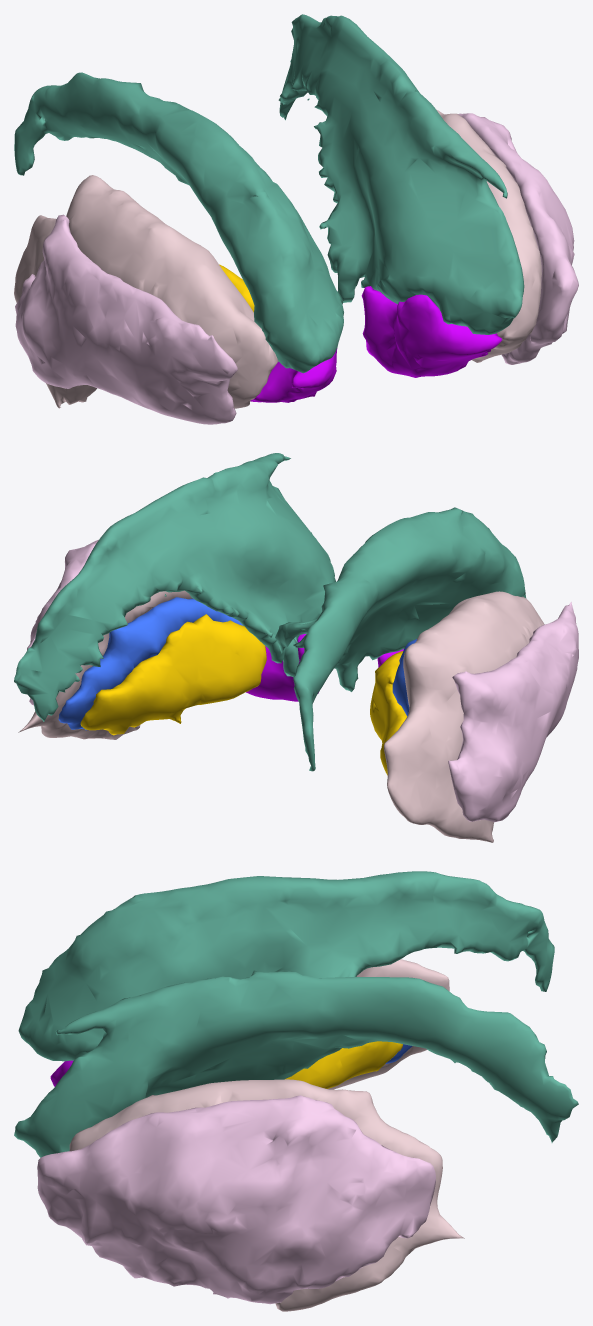
Rendered from basal-ganglia.lod0.glb.
3 renders of one model, top to bottom at view 1: azimuth 30°, elevation 25°; view 2: azimuth 150°, elevation 25°; view 3: azimuth 270°, elevation 25°, orthographic. The views are drawn at different scales.
Parts seen in each view (by area): view 1: caudate-nucleus-l, caudate-nucleus-r, claustrum-r, putamen-r, claustrum-l, nucleus-accumbens-l, putamen-l, nucleus-accumbens-r; view 2: caudate-nucleus-l, caudate-nucleus-r, putamen-r, claustrum-r, globus-pallidus-pars-interna-l, globus-pallidus-pars-externa-l, putamen-l, globus-pallidus-pars-interna-r, nucleus-accumbens-l, claustrum-l, globus-pallidus-pars-externa-r; view 3: claustrum-l, caudate-nucleus-r, caudate-nucleus-l, putamen-l, globus-pallidus-pars-interna-r, putamen-r.
Boxes of the visible parts, x1,y1,x2,y2 form: caudate-nucleus-l: (278,14,524,334); caudate-nucleus-r: (14,72,343,373); claustrum-r: (15,214,237,424); putamen-r: (14,175,278,408); claustrum-l: (458,113,578,364); nucleus-accumbens-l: (361,286,501,377); putamen-l: (436,109,541,362); nucleus-accumbens-r: (250,348,337,402); caudate-nucleus-l: (14,453,335,721); caudate-nucleus-r: (275,507,526,771); putamen-r: (384,591,544,842); claustrum-r: (448,602,578,822); globus-pallidus-pars-interna-l: (80,614,266,735); globus-pallidus-pars-externa-l: (58,597,243,730); putamen-l: (18,590,192,739); globus-pallidus-pars-interna-r: (370,651,407,775); nucleus-accumbens-l: (246,634,319,701); claustrum-l: (27,539,98,705); globus-pallidus-pars-externa-r: (392,639,416,716); claustrum-l: (37,1095,435,1304); caudate-nucleus-r: (18,871,554,1061); caudate-nucleus-l: (14,970,578,1157); putamen-l: (69,1079,464,1311); globus-pallidus-pars-interna-r: (284,1041,402,1088); putamen-r: (327,959,449,1089).
Bounding box in the file's own units: 0.0738 × 0.04 × 0.07.
